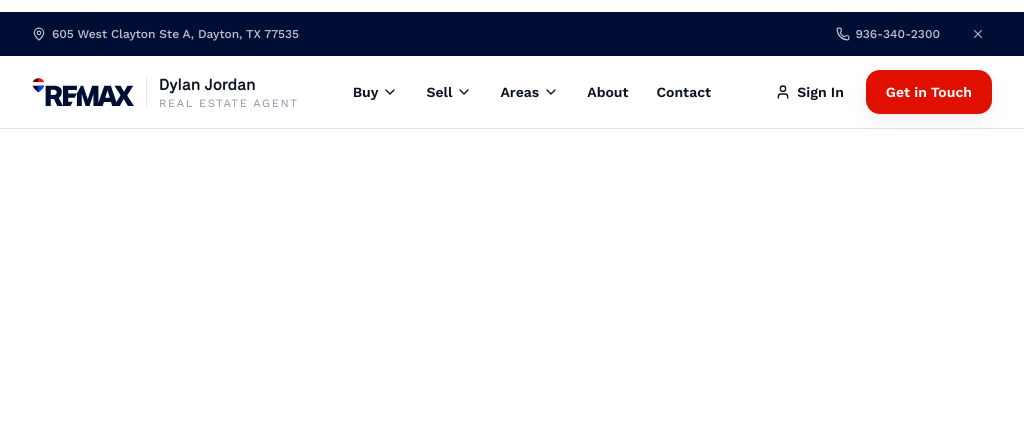
Scenario: header menus › opens the buy panel onto the listing filters
Click the button "Buy". click: (376, 92)
box: [353,70,398,114]
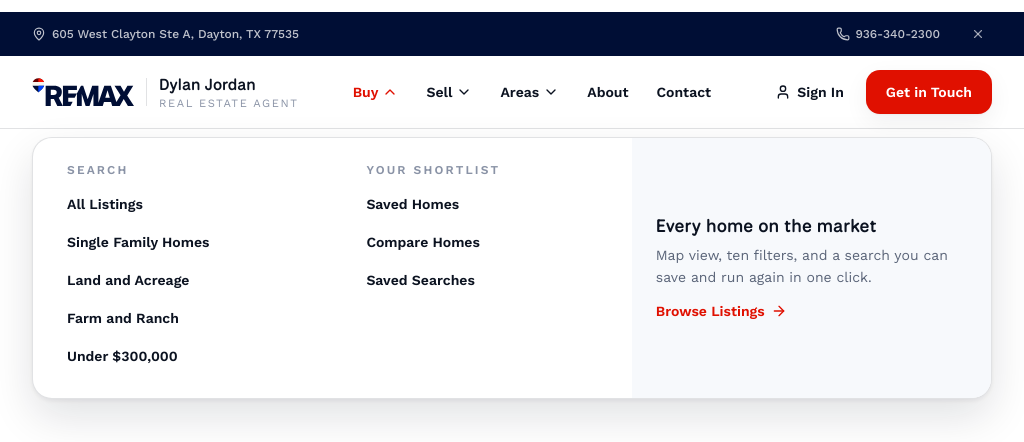
Result: the button "Buy" is expanded at [353,70,398,114]
